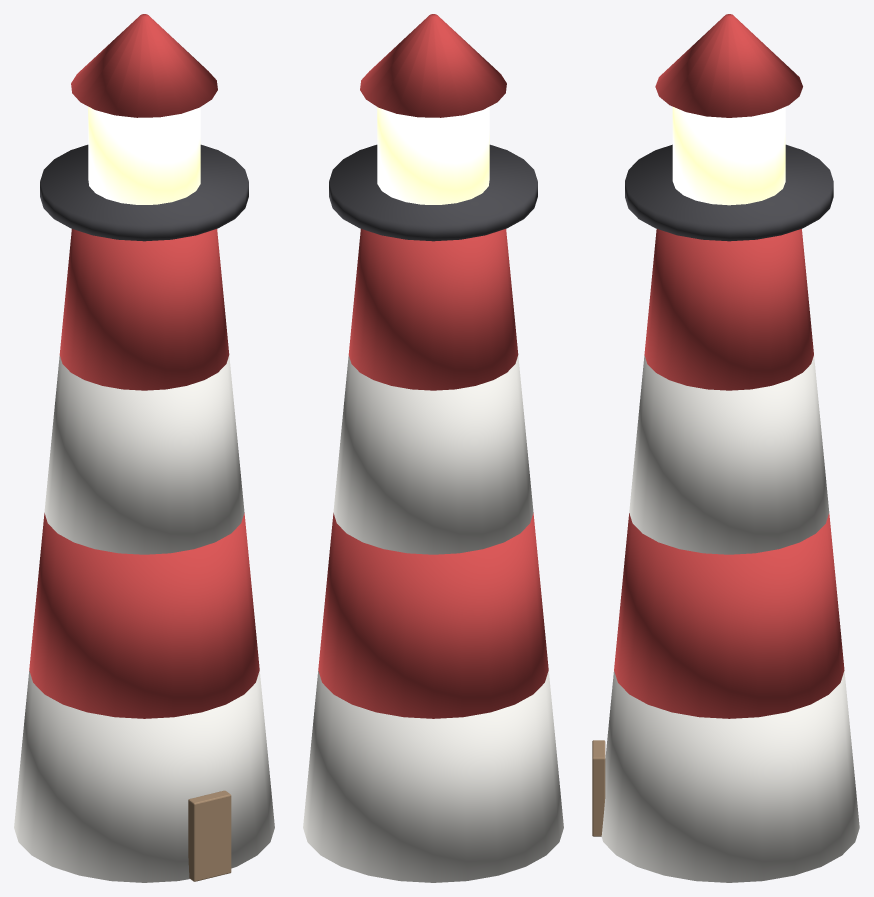
File: lighthouse.glb
3 renders of one model, left to right at view 1: azimuth 30°, elevation 25°; view 2: azimuth 150°, elevation 25°; view 3: azimuth 270°, elevation 25°, orthographic.
Parts seen in each view (by area): view 1: seg, seg.001, seg.002, seg.003, gallery, lantern, cap, door; view 2: seg, seg.001, seg.002, seg.003, gallery, lantern, cap; view 3: seg, seg.001, seg.002, seg.003, gallery, lantern, cap, door.
Boxes of the visible parts, <box> form: seg: <box>14,671,274,882</box>; seg.001: <box>29,513,259,718</box>; seg.002: <box>44,355,244,554</box>; seg.003: <box>59,229,229,390</box>; gallery: <box>40,144,248,241</box>; lantern: <box>88,106,200,204</box>; cap: <box>71,14,217,117</box>; door: <box>188,790,231,881</box>; seg: <box>303,671,563,882</box>; seg.001: <box>318,513,548,718</box>; seg.002: <box>333,355,533,554</box>; seg.003: <box>348,229,518,390</box>; gallery: <box>329,144,537,241</box>; lantern: <box>377,106,489,204</box>; cap: <box>360,14,506,117</box>; seg: <box>601,670,859,882</box>; seg.001: <box>614,513,844,718</box>; seg.002: <box>629,355,829,554</box>; seg.003: <box>644,229,813,390</box>; gallery: <box>625,144,833,241</box>; lantern: <box>672,106,785,205</box>; cap: <box>655,14,802,117</box>; door: <box>592,740,605,836</box>.
Bounding box in the file's own units: 6 × 20.6 × 6.15.
